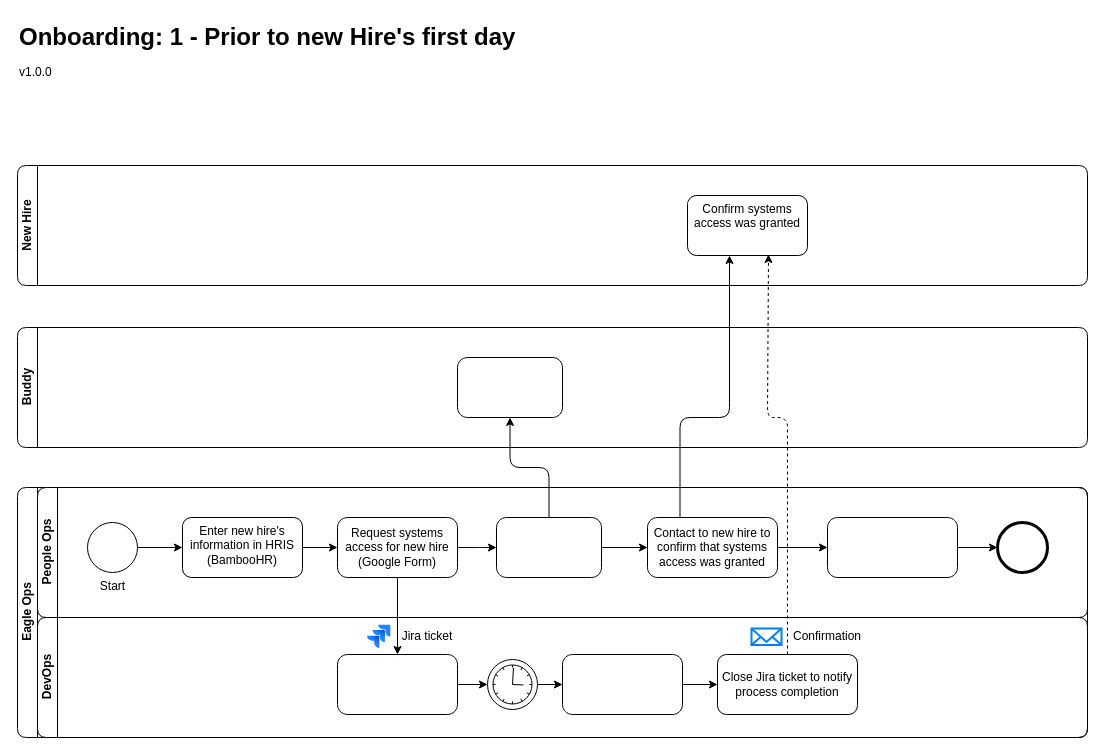
The diagram is 1105 pixels wide and 755 high, and some of its shapes have lost their labels. The centre of each missing label's shape, as x and y in pixels:
"Add new hired to relevant calendar and mail groups" goes at point 892,547.
"Assign new hire a Buddy" goes at point 549,547.
"Confirm you are new hire's Buddy" goes at point 509,387.
"End" goes at point 1022,547.
"Receive request systems access notification" goes at point 397,684.
"Run systems access granting prrocess" goes at point 622,684.
